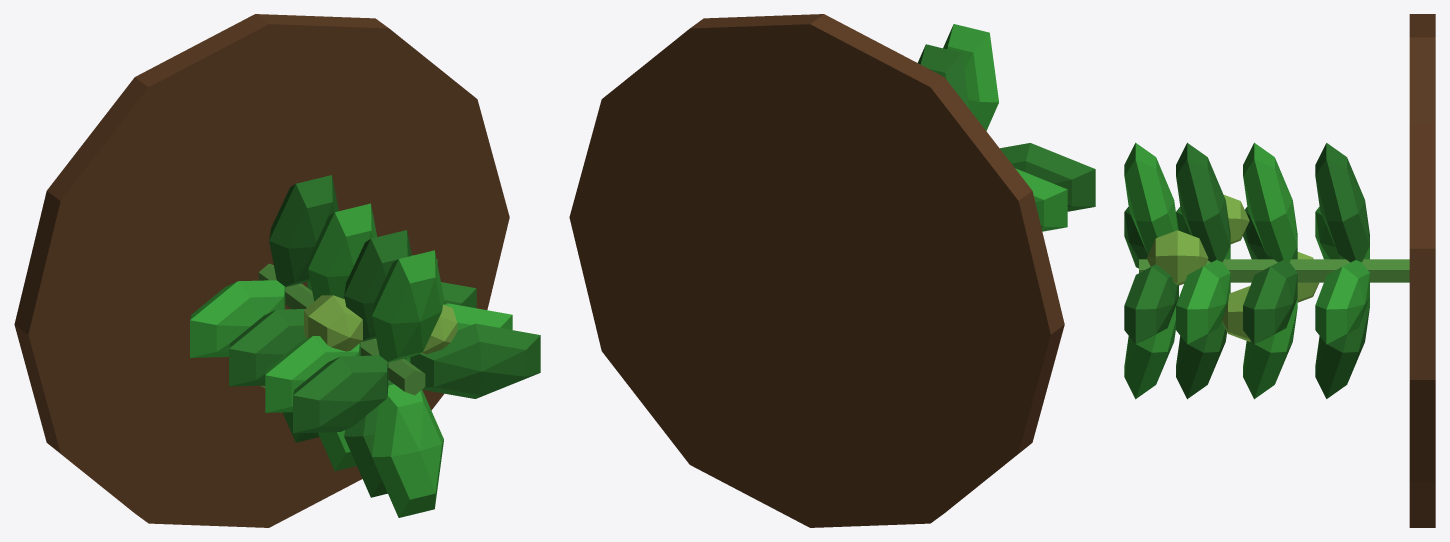
File: stage_3.obj
3 renders of one model, left to right at view 1: azimuth 30°, elevation 25°; view 2: azimuth 150°, elevation 25°; view 3: azimuth 270°, elevation 25°, orthographic. The views are drawn at different scales.
Parts seen in each view (by area): view 1: Tomato_Stage3; view 2: Tomato_Stage3; view 3: Tomato_Stage3.
Part boxes in pixels (<box>): Tomato_Stage3: <box>14,14,540,527</box>; Tomato_Stage3: <box>569,14,1095,527</box>; Tomato_Stage3: <box>1124,14,1435,527</box>.
Size of the model in its own units: 1 by 1 by 0.6029.
